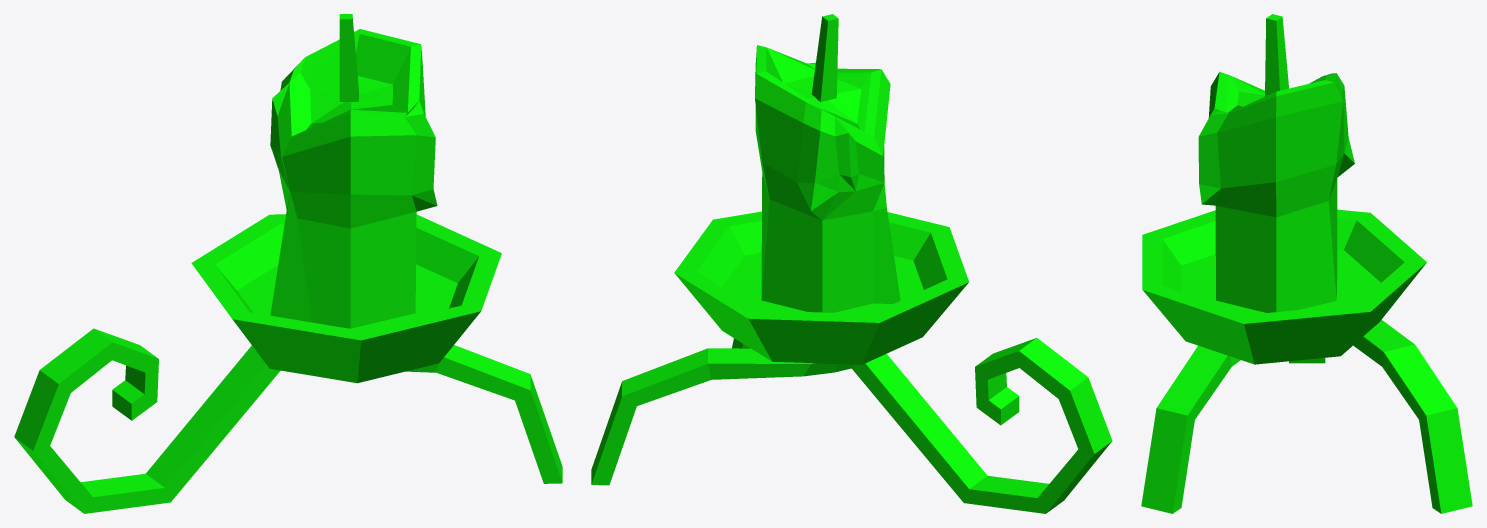
Rendered from SM_Candle_Finger_Holder_C_Unlit_Fantasy.fbx.
3 renders of one model, left to right at view 1: azimuth 30°, elevation 25°; view 2: azimuth 150°, elevation 25°; view 3: azimuth 270°, elevation 25°, orthographic. The views are drawn at different scales.
Visible parts, largest first — view 1: candle-finger-holder-c-unlit-fantasy; view 2: candle-finger-holder-c-unlit-fantasy; view 3: candle-finger-holder-c-unlit-fantasy.
Part boxes in pixels (left/top/right/bottom): candle-finger-holder-c-unlit-fantasy: left=14, top=14, right=562, bottom=513; candle-finger-holder-c-unlit-fantasy: left=591, top=14, right=1112, bottom=513; candle-finger-holder-c-unlit-fantasy: left=1141, top=14, right=1472, bottom=513.
Size of the model in its own units: 0.1789 by 0.1648 by 0.1172.
